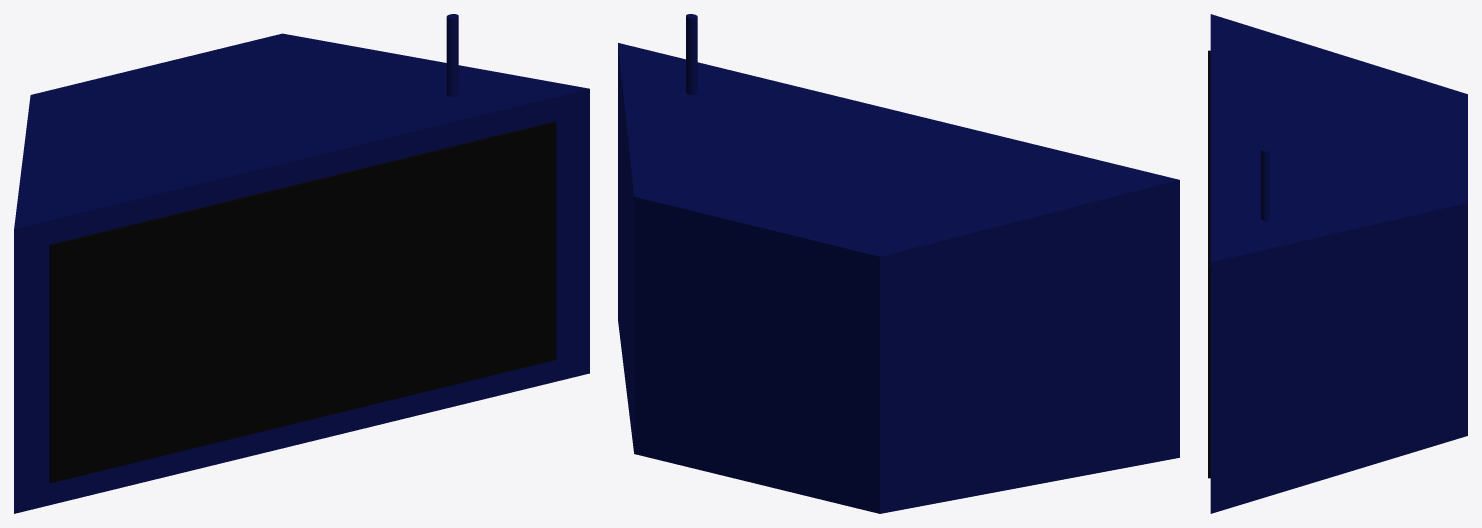
The picture shows the model from 3 angles, left to right: view 1: azimuth 30°, elevation 25°; view 2: azimuth 150°, elevation 25°; view 3: azimuth 270°, elevation 25°; orthographic projection. The views are drawn at different scales.
Visible parts, largest first — view 1: Cube.001, Cube, Cylinder; view 2: Cube, Cylinder; view 3: Cube, Cube.001, Cylinder.
Part boxes in pixels (x1,y1,x2,y2): Cube.001: (49, 121, 556, 482); Cube: (14, 33, 589, 513); Cylinder: (446, 14, 458, 96); Cube: (618, 43, 1179, 513); Cylinder: (686, 14, 697, 94); Cube: (1210, 14, 1467, 513); Cube.001: (1208, 50, 1210, 478); Cylinder: (1260, 147, 1269, 220).
Bounding box in the file's own units: 4.57 × 2.73 × 2.02.
